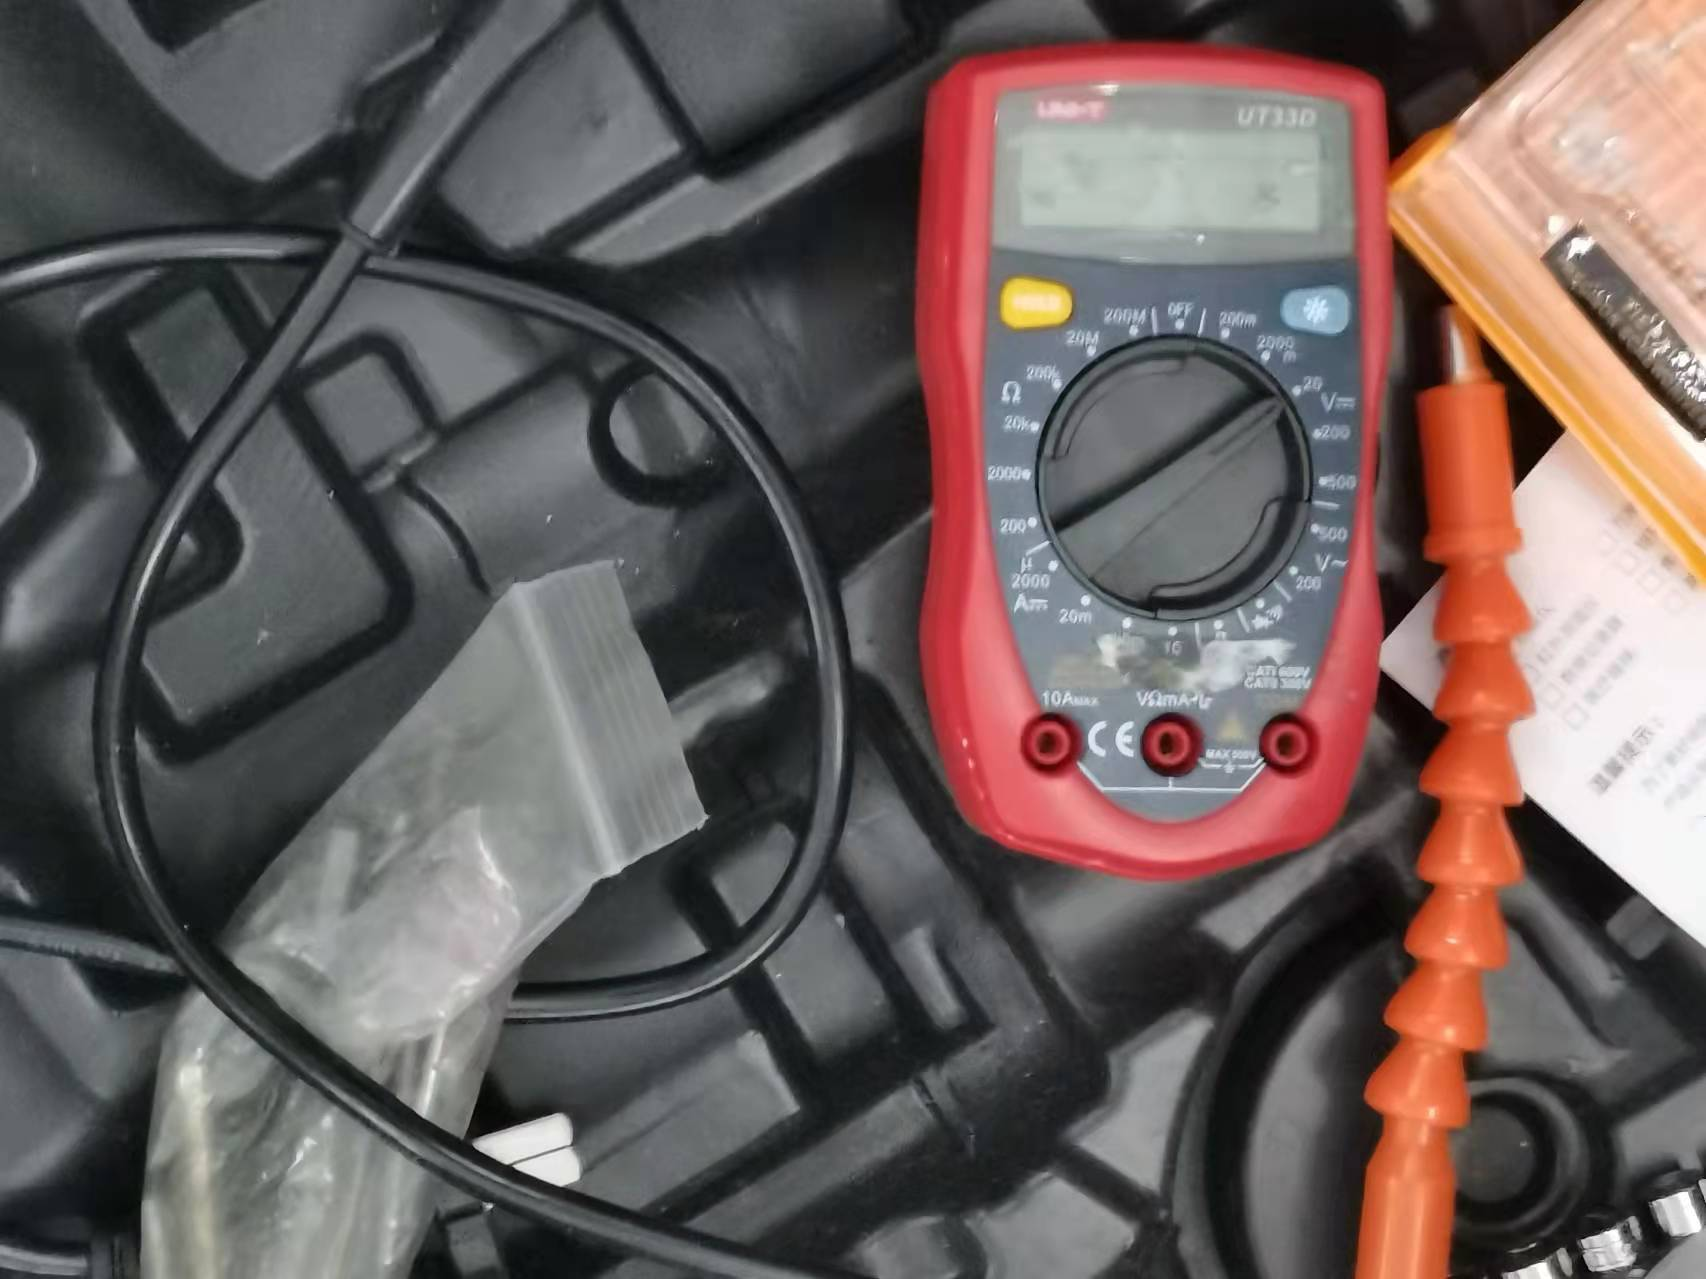Multimeter: (917, 38, 1374, 883)
